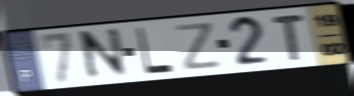2: (224, 14, 276, 71)
7: (37, 29, 74, 86)
L: (135, 25, 176, 76)
N: (80, 26, 130, 84)
T: (270, 13, 307, 63)
Z: (173, 20, 224, 73)
